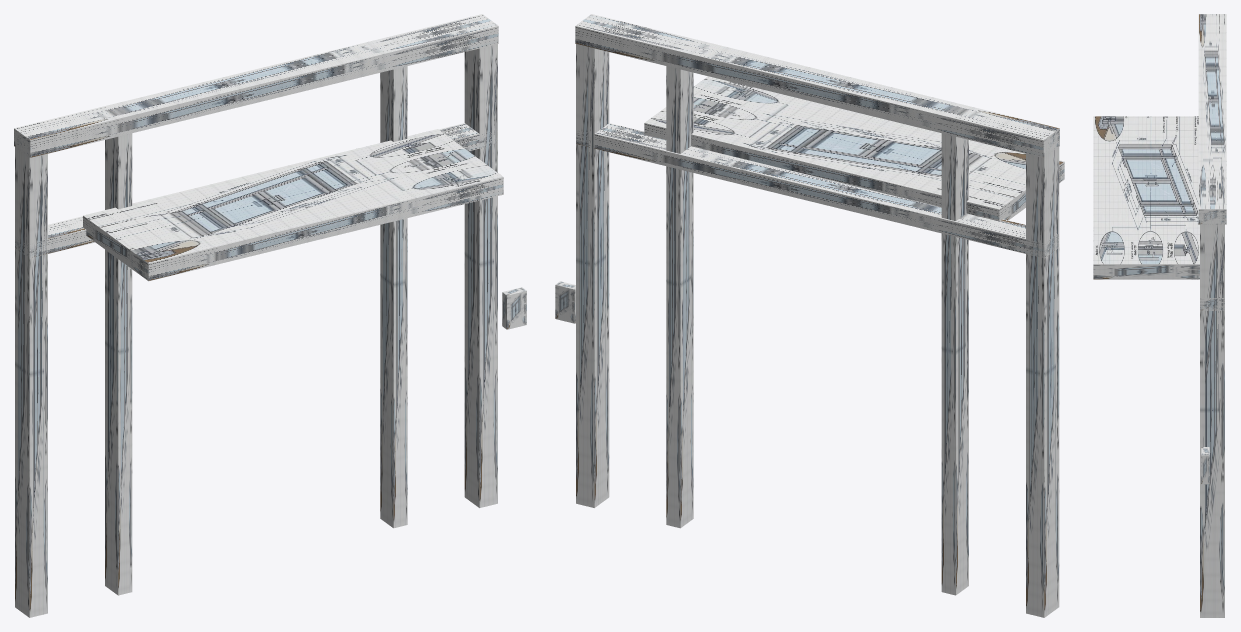
The model's file is sf_campus_glass_door.glb.
The picture shows the model from 3 angles, left to right: view 1: azimuth 30°, elevation 25°; view 2: azimuth 150°, elevation 25°; view 3: azimuth 270°, elevation 25°; orthographic projection. The views are drawn at different scales.
Parts seen in each view (by area): view 1: CampusGlassDoorSystem; view 2: CampusGlassDoorSystem; view 3: CampusGlassDoorSystem.
Part boxes in pixels (<box>): CampusGlassDoorSystem: <box>14,14,526,617</box>; CampusGlassDoorSystem: <box>555,14,1064,617</box>; CampusGlassDoorSystem: <box>1093,14,1226,617</box>.
Size of the model in its own units: 3.51 by 3.22 by 0.95.
1 material, 1 textured.
